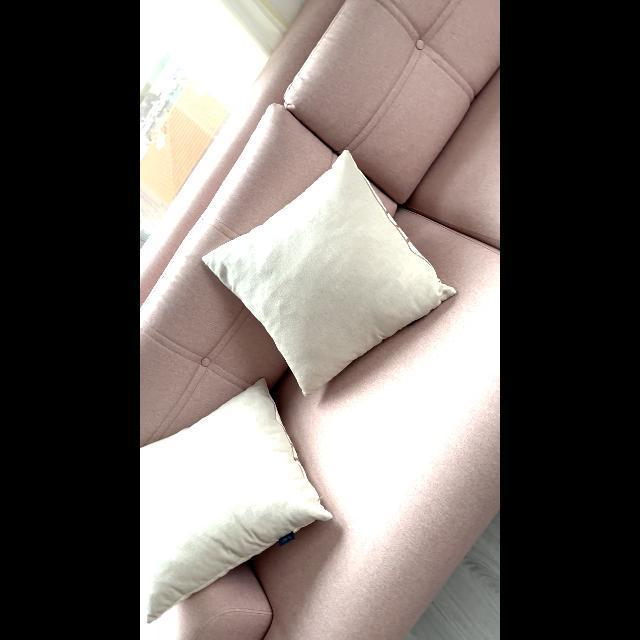throw pillow: (187, 140, 465, 404), (140, 373, 354, 632)
